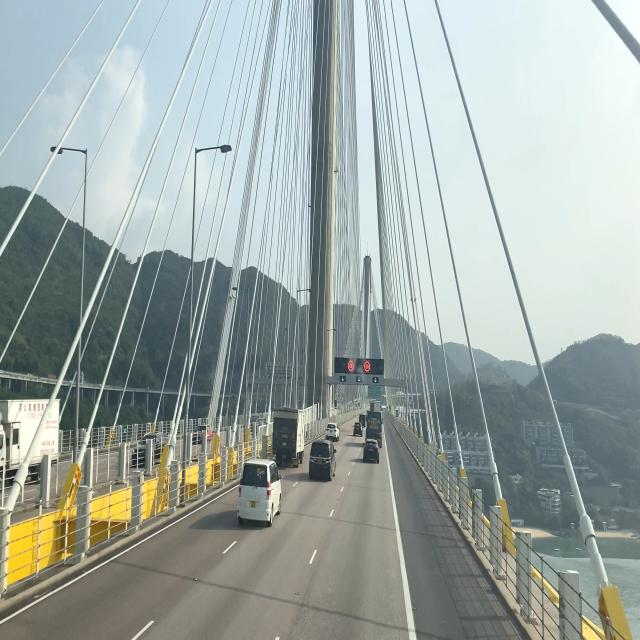Vehicle: (235, 462, 282, 530), (268, 407, 304, 469), (307, 436, 338, 486), (362, 438, 379, 463), (323, 424, 340, 444)
